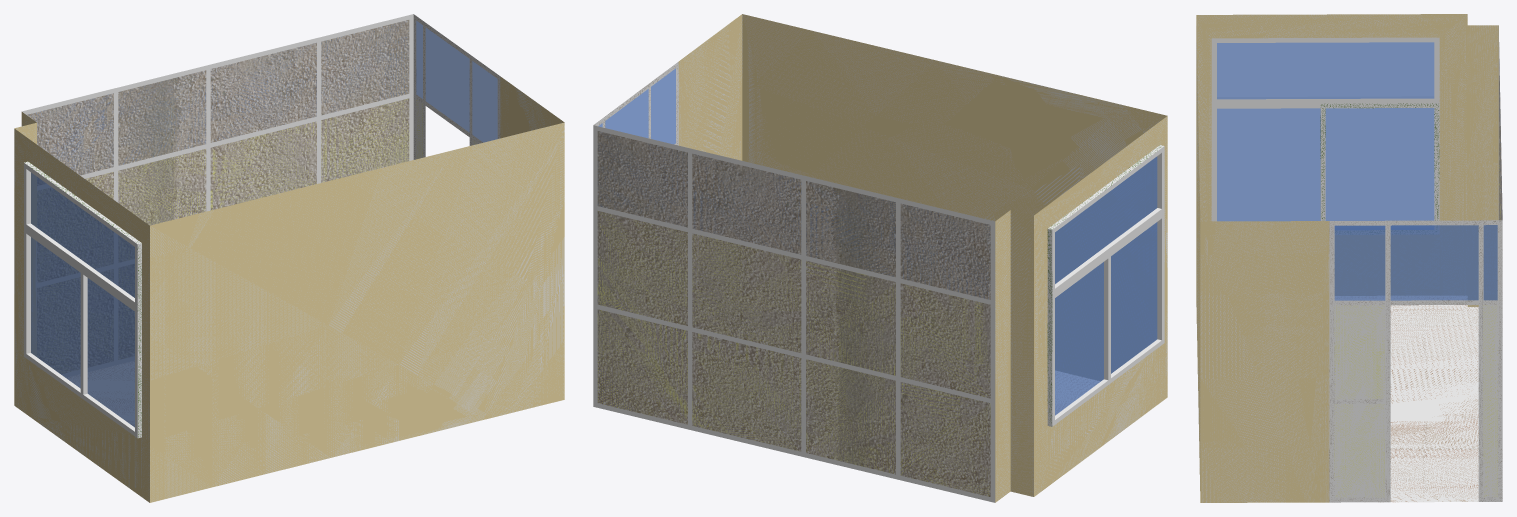
The model's file is DES025.obj.
3 renders of one model, left to right at view 1: azimuth 30°, elevation 25°; view 2: azimuth 150°, elevation 25°; view 3: azimuth 270°, elevation 25°, orthographic.
Visible parts, largest first — view 1: Mesh7 DES025 Model, Mesh1 ventana1_2_1 DES025 Model; view 2: Mesh7 DES025 Model, Mesh1 ventana1_2_1 DES025 Model; view 3: Mesh7 DES025 Model, Mesh1 ventana1_2_1 DES025 Model.
Boxes of the visible parts, x1,y1,x2,y2 form: Mesh7 DES025 Model: [14, 14, 564, 502]; Mesh1 ventana1_2_1 DES025 Model: [24, 161, 141, 438]; Mesh7 DES025 Model: [593, 14, 1167, 502]; Mesh1 ventana1_2_1 DES025 Model: [1047, 145, 1164, 426]; Mesh7 DES025 Model: [1196, 14, 1502, 502]; Mesh1 ventana1_2_1 DES025 Model: [1211, 37, 1439, 234].
Size of the model in its own units: 4.79 by 3 by 2.96.
Materials: 9 (2 with a texture image).
